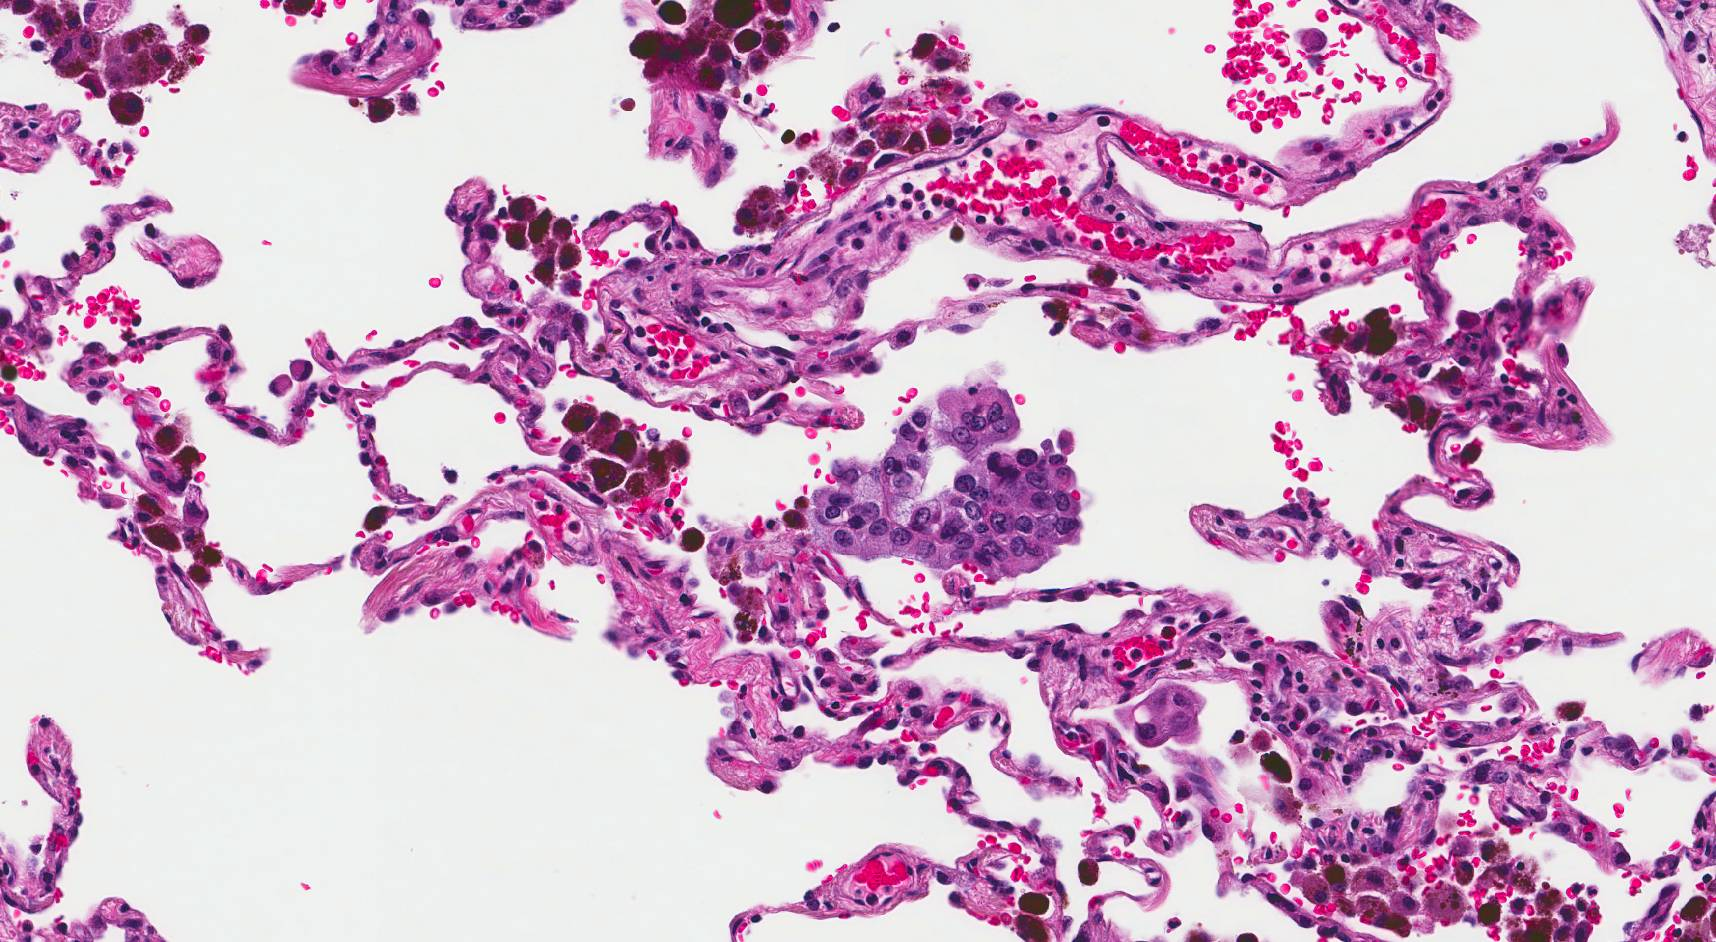stas: (809, 381, 1089, 580), (1114, 677, 1209, 750)
